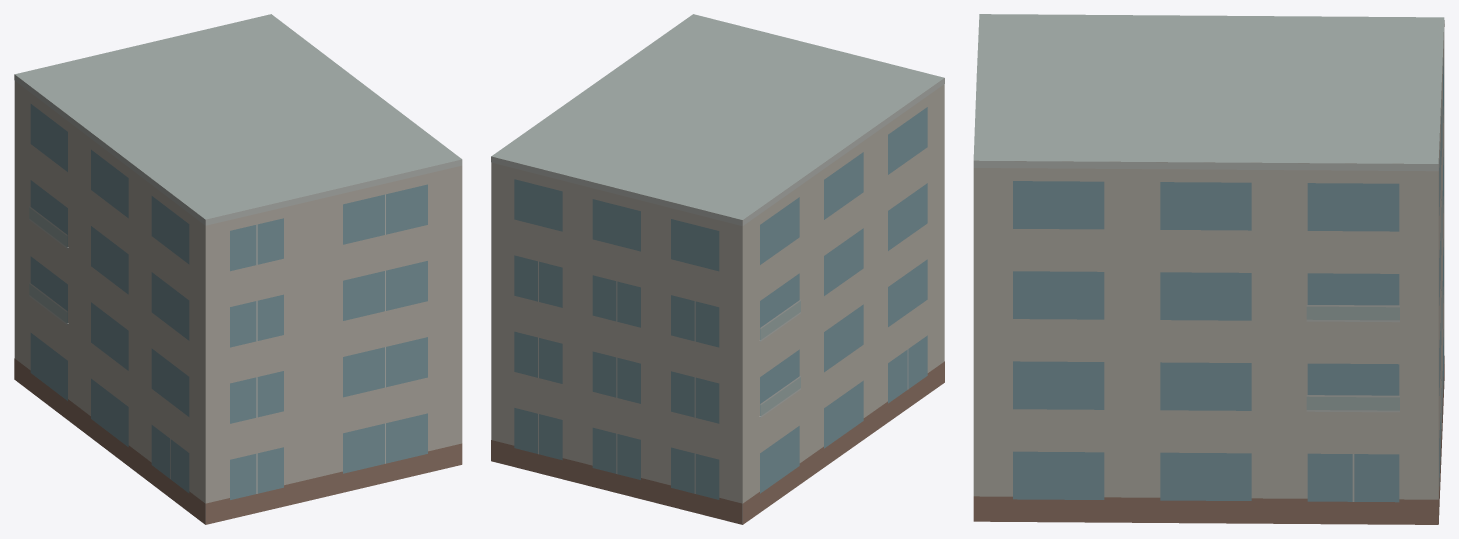
File: residential-9abc0076-c1db-4f2a-bc0e-2bea159a7936.glb
The picture shows the model from 3 angles, left to right: view 1: azimuth 30°, elevation 25°; view 2: azimuth 150°, elevation 25°; view 3: azimuth 270°, elevation 25°; orthographic projection. The views are drawn at different scales.
Parts seen in each view (by area): view 1: residential-9abc0076-c1db-4f2a-bc0e-2bea159a7936.tmp; view 2: residential-9abc0076-c1db-4f2a-bc0e-2bea159a7936.tmp; view 3: residential-9abc0076-c1db-4f2a-bc0e-2bea159a7936.tmp.
Boxes of the visible parts, left/top/right/bottom form: residential-9abc0076-c1db-4f2a-bc0e-2bea159a7936.tmp: left=14, top=14, right=462, bottom=524; residential-9abc0076-c1db-4f2a-bc0e-2bea159a7936.tmp: left=491, top=14, right=944, bottom=524; residential-9abc0076-c1db-4f2a-bc0e-2bea159a7936.tmp: left=973, top=14, right=1444, bottom=524.
Bounding box in the file's own units: 10.9 × 12.2 × 14.44.
